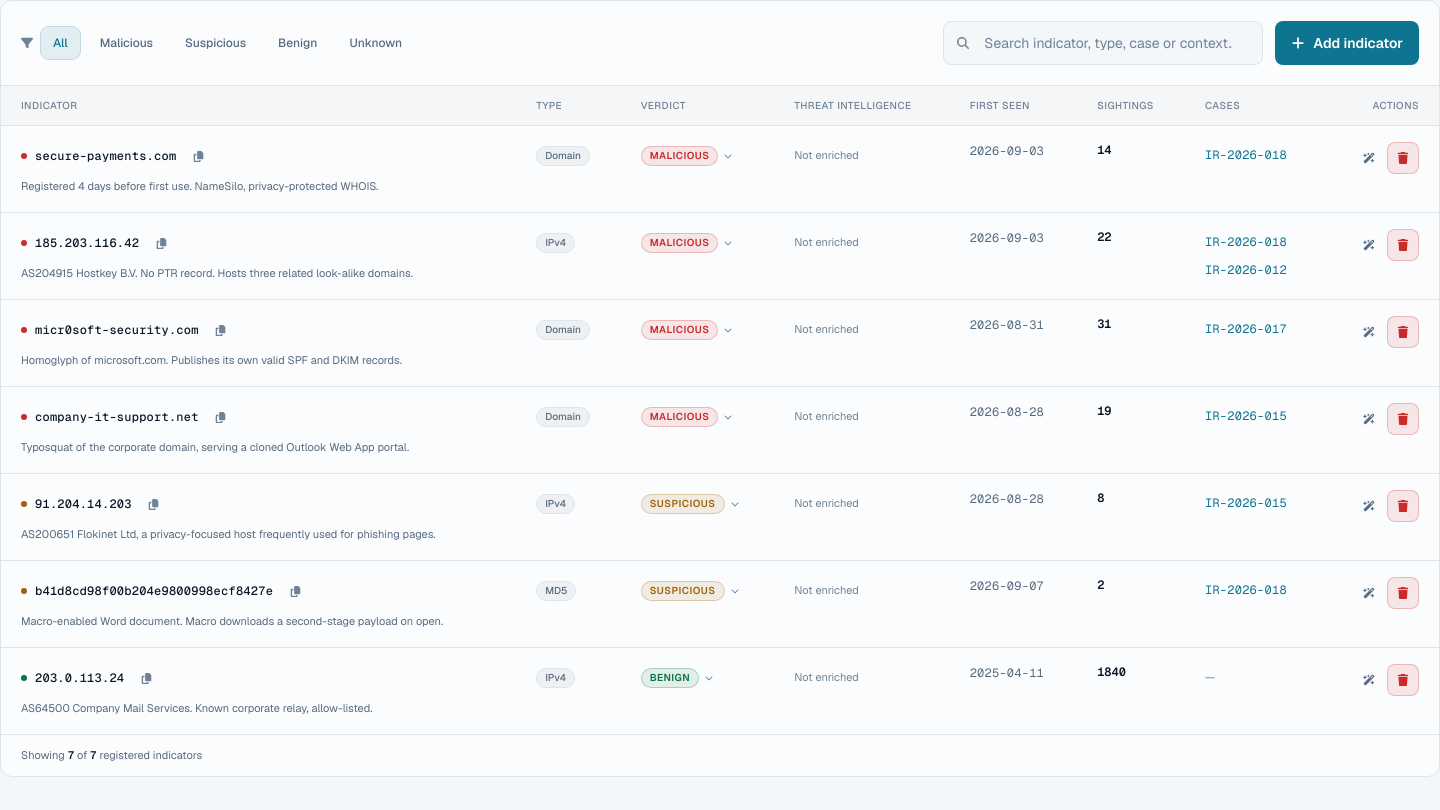
Test: indicator registry › refuses a duplicate indicator
The width and height of the screenshot is (1440, 810).
Click the button "Add indicator". click: (1347, 43)
box: top-left (1275, 21), bottom-right (1419, 65)
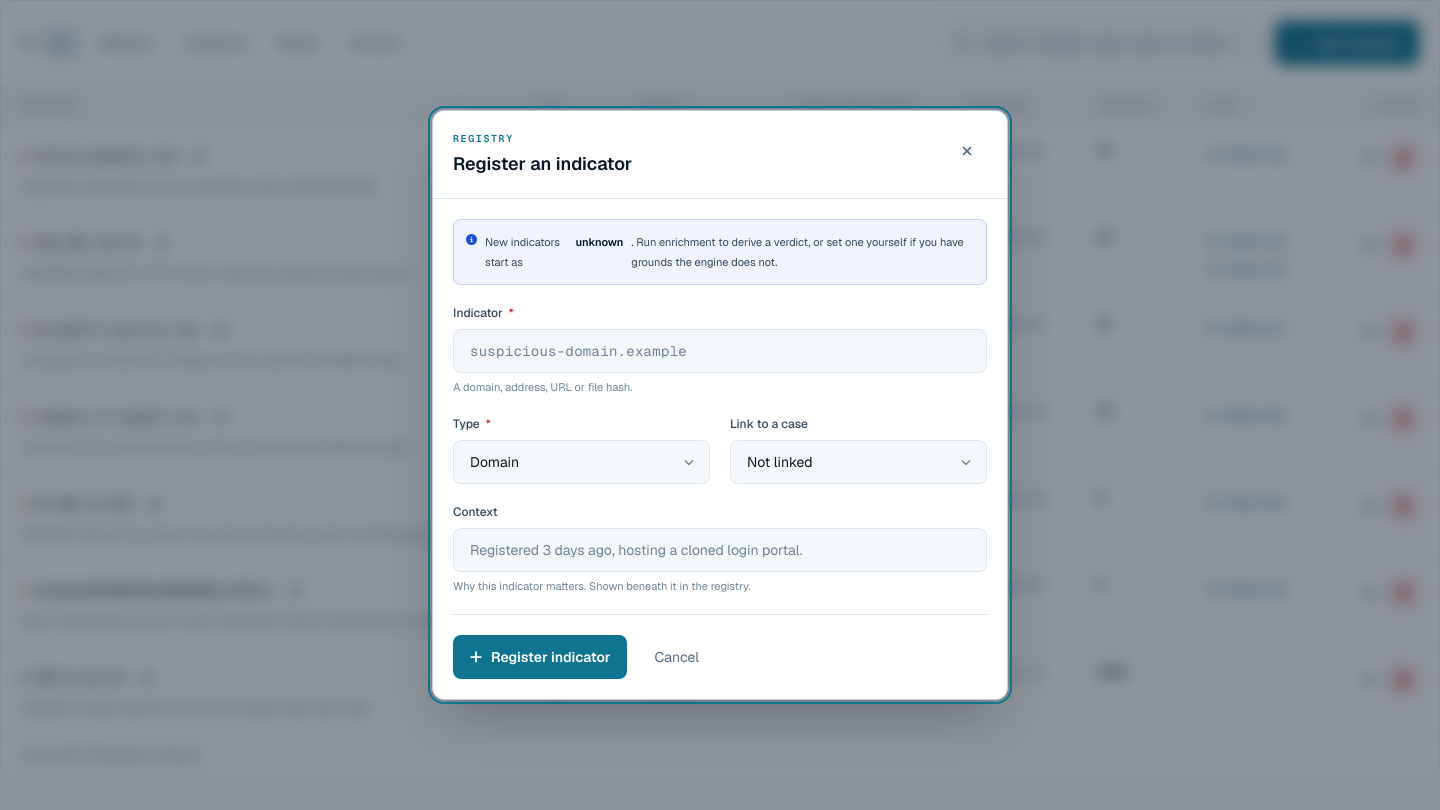
Type "secure-payments.com" into the field labelled "Indicator *". click: (720, 351)
box: top-left (453, 329), bottom-right (987, 373)
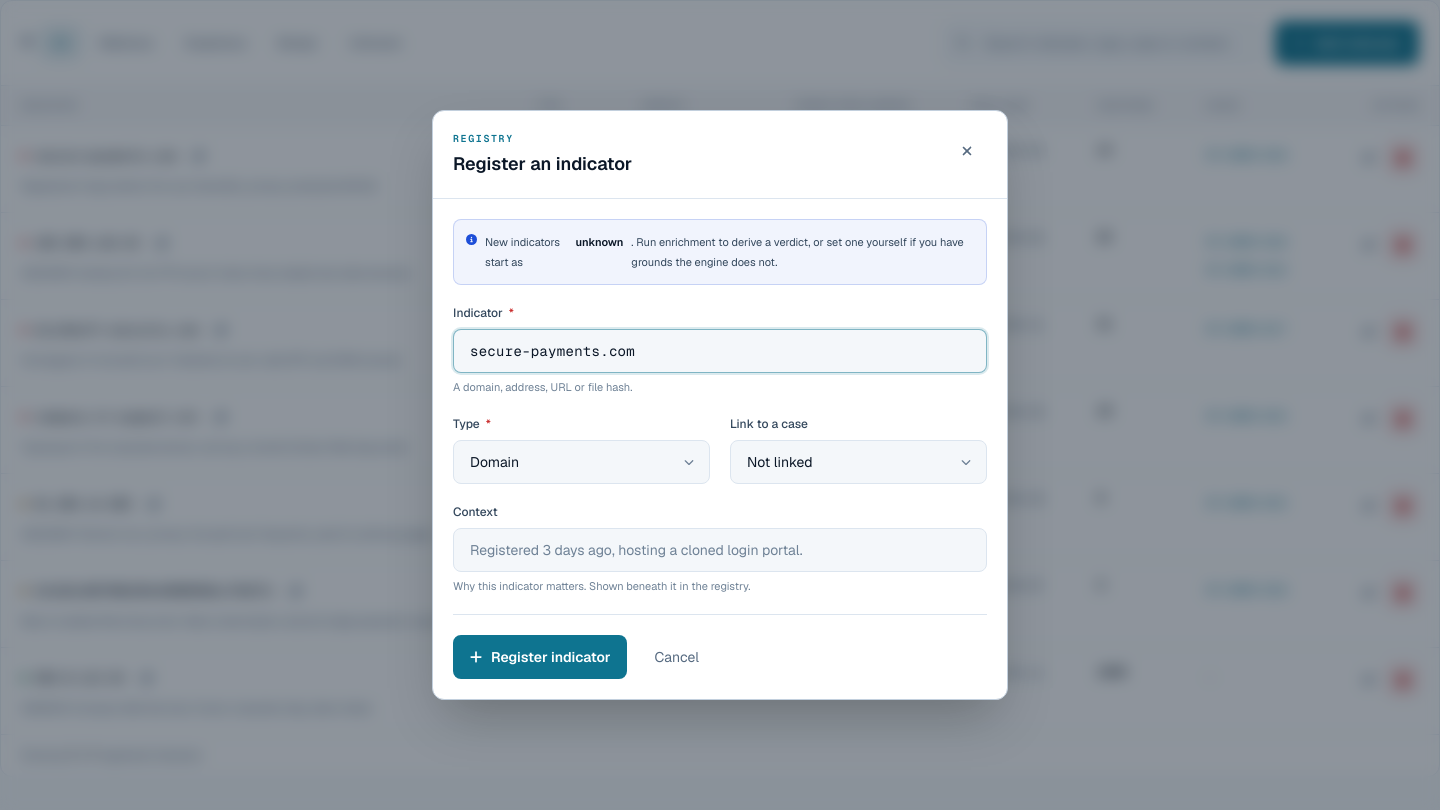
Click the button "Register indicator". click: (540, 657)
box: top-left (453, 635), bottom-right (627, 679)
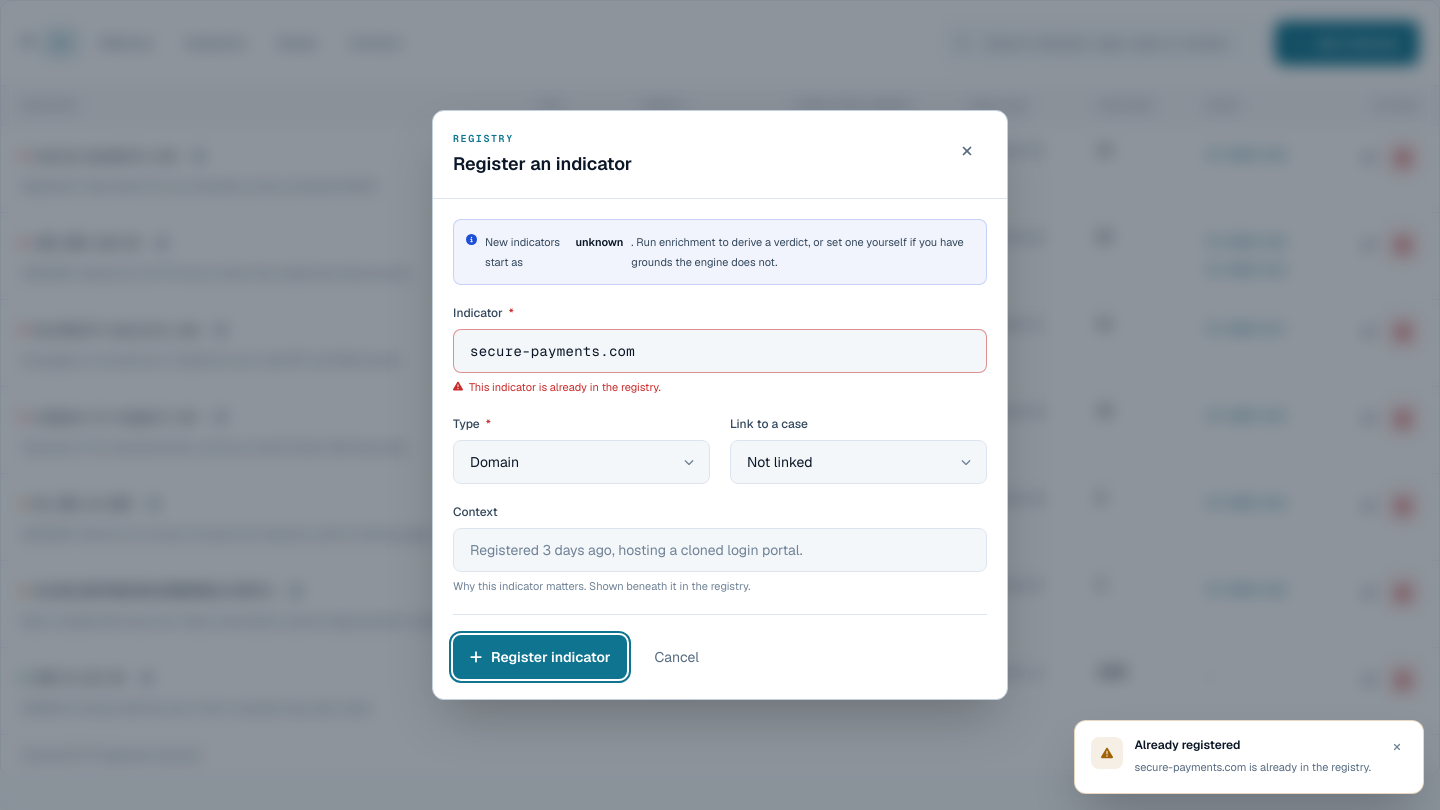
Expected: the dialog is shown, top-left (432, 110), bottom-right (1008, 700)
Expected: the message "This indicator is already in the registry." is shown, top-left (453, 380), bottom-right (661, 394)
